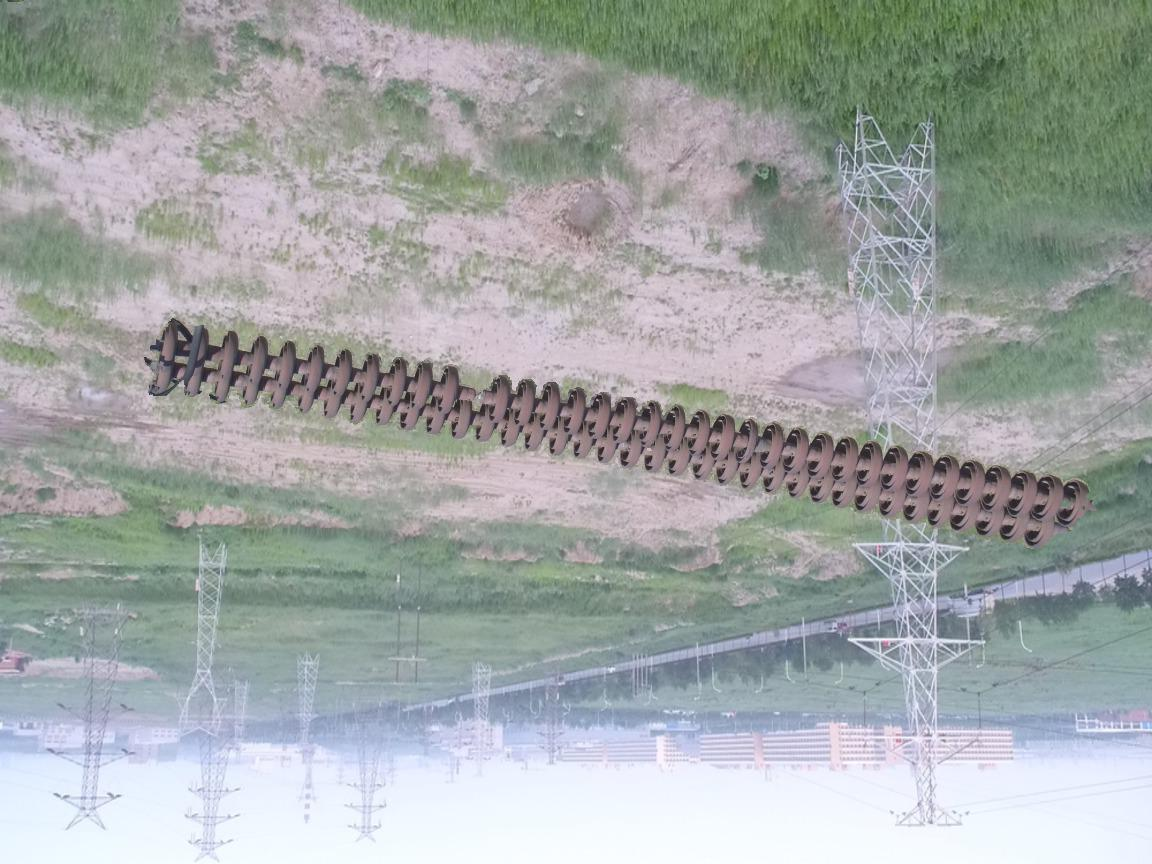insulator: (136, 314, 1096, 553)
insulator_stringdrop: (433, 363, 515, 426)
